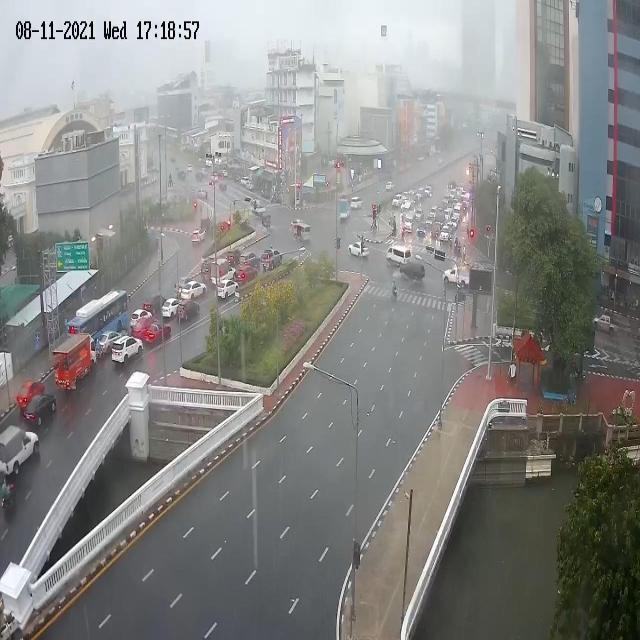Bus: (65, 289, 132, 354)
Car: (22, 393, 56, 427), (112, 335, 144, 366), (16, 381, 46, 407), (144, 322, 172, 344), (99, 330, 124, 353), (260, 248, 283, 270), (399, 262, 426, 280), (130, 308, 153, 329), (176, 300, 200, 320), (181, 280, 207, 298), (236, 265, 258, 284), (163, 297, 183, 317), (218, 281, 239, 300), (348, 242, 370, 259), (238, 252, 261, 268), (191, 230, 205, 246), (439, 226, 451, 241), (351, 197, 364, 210), (416, 221, 427, 235), (430, 225, 440, 238), (392, 194, 402, 206), (385, 181, 395, 192)
Truck: (52, 334, 97, 392), (0, 425, 40, 477), (210, 258, 237, 286), (444, 266, 470, 290), (593, 312, 615, 336), (338, 198, 351, 221), (251, 199, 266, 216)
Van: (386, 245, 412, 268), (293, 223, 311, 243), (404, 211, 416, 232)
